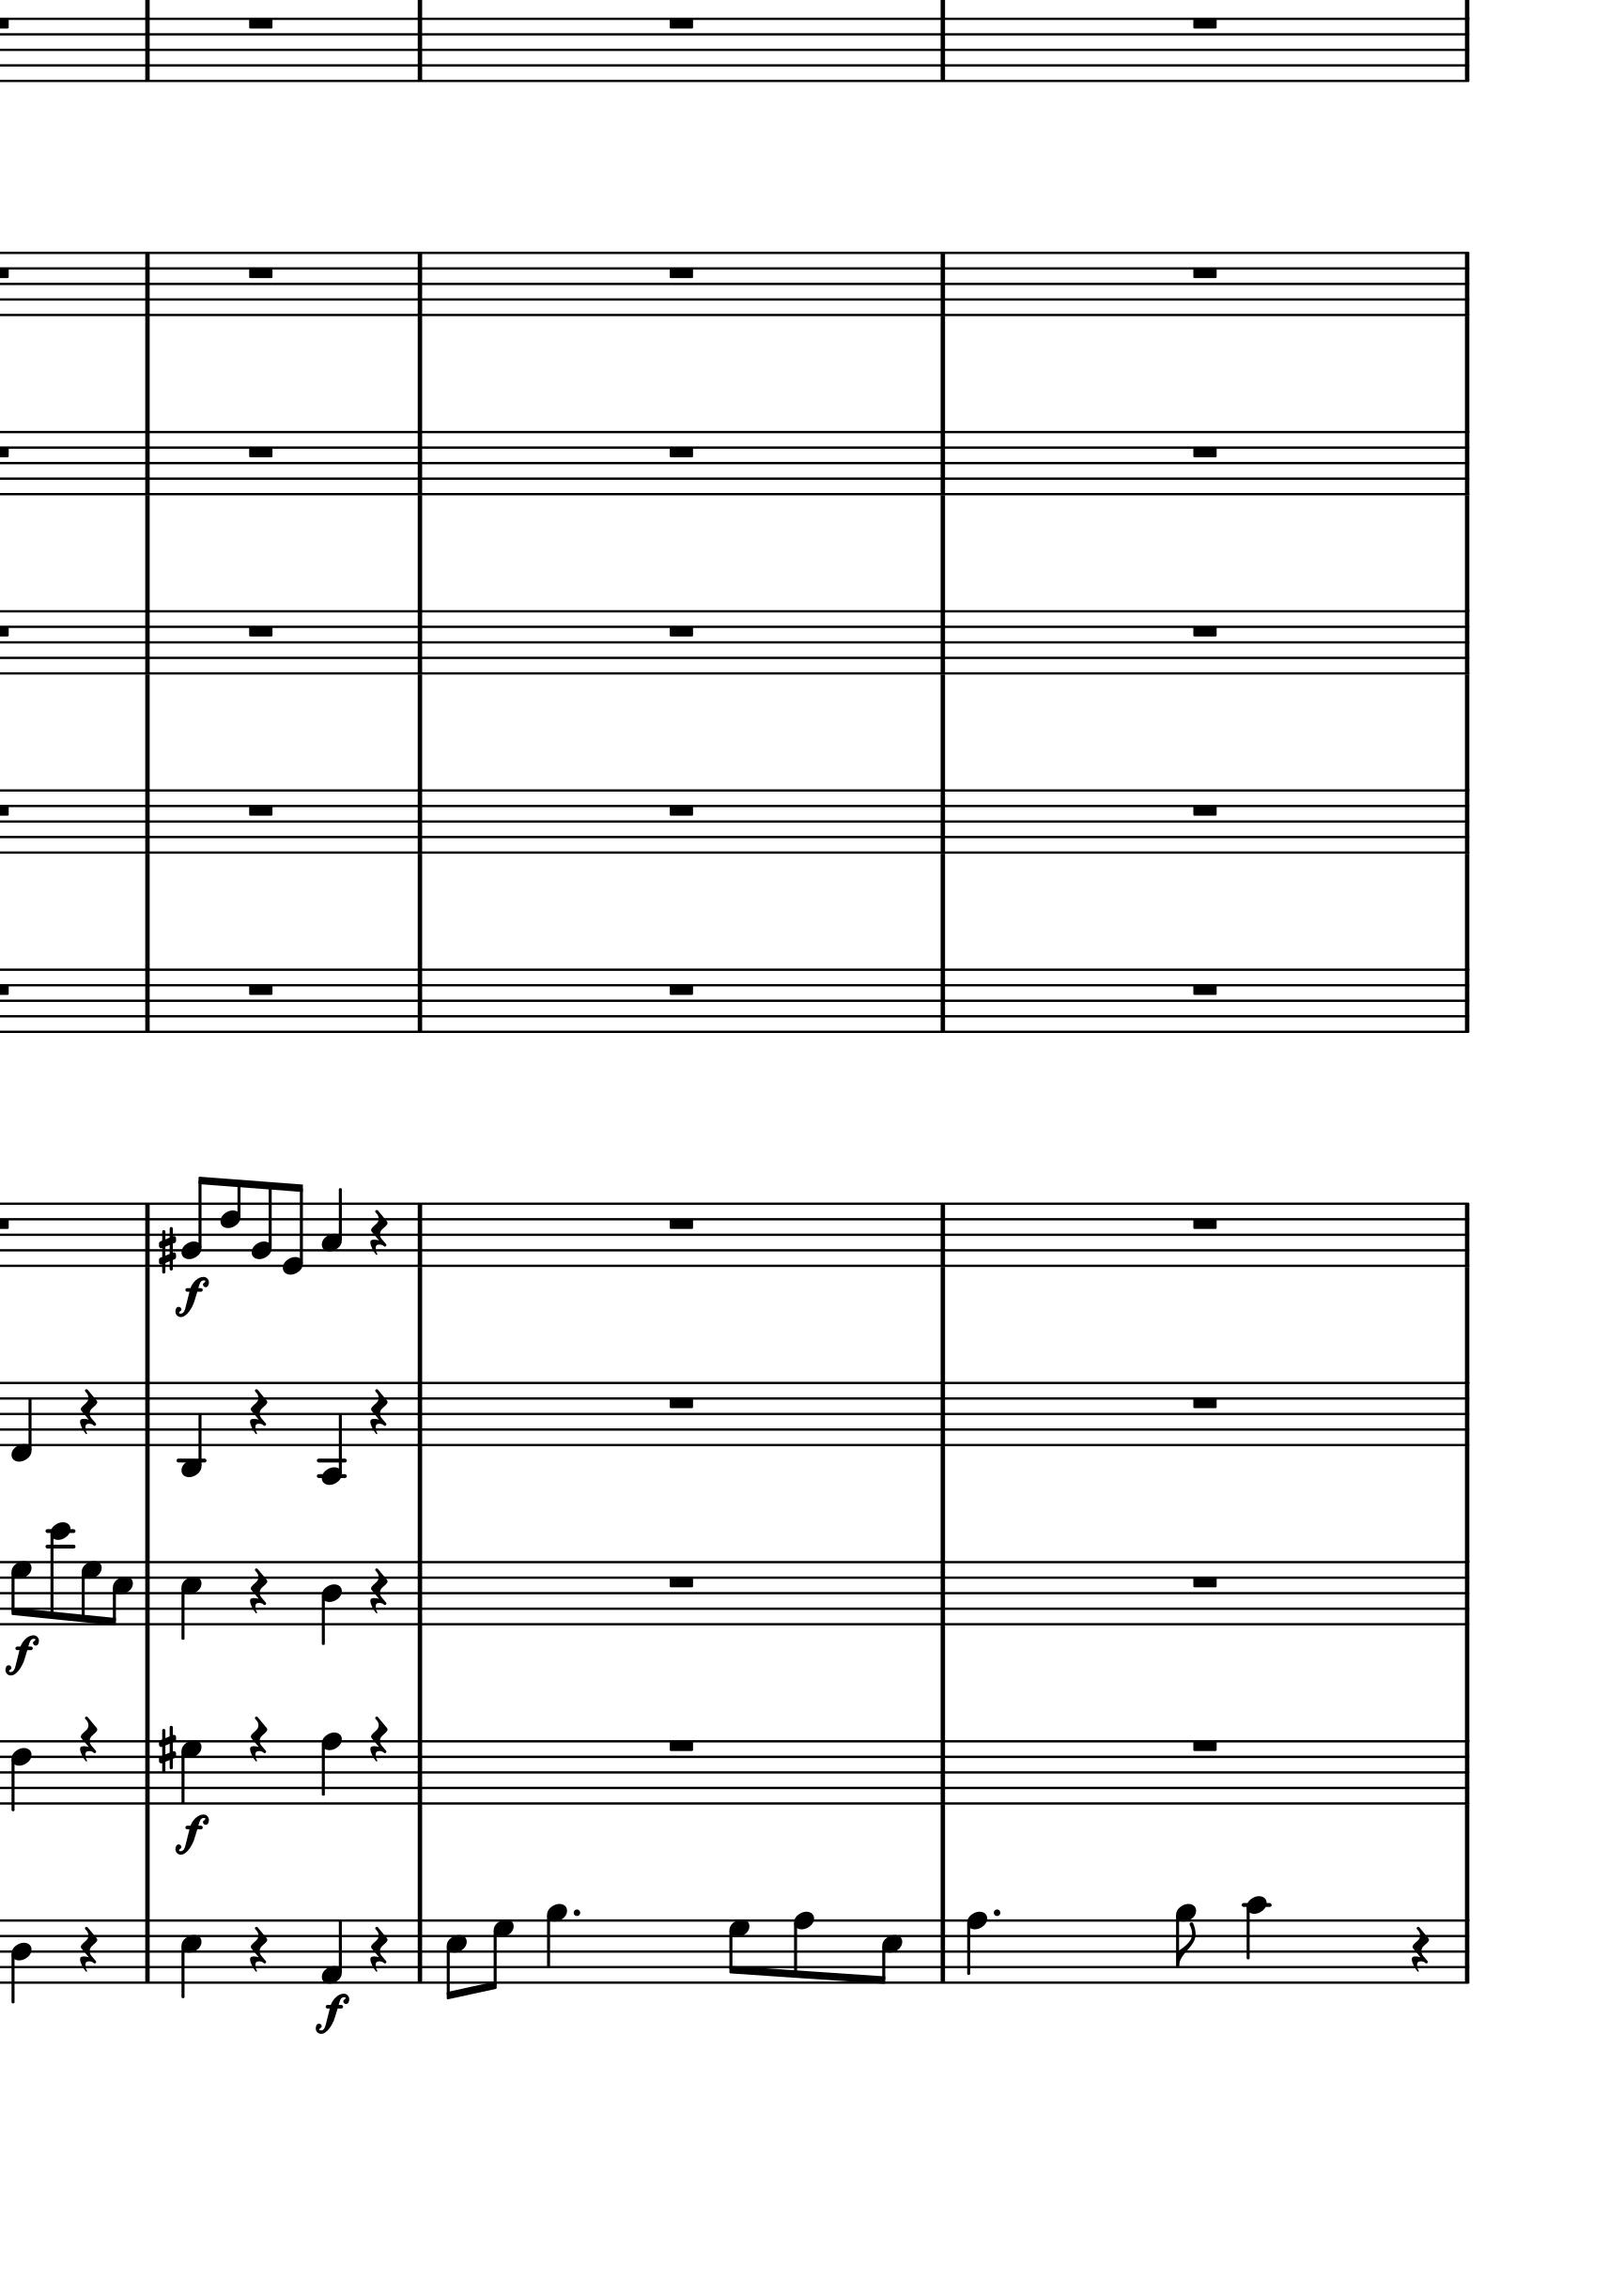4_-1: (7, 1379, 33, 1462)
4_-3: (176, 1383, 204, 1479)
4_-4: (316, 1379, 344, 1486)
4_1: (318, 1918, 343, 1985)
4_10: (1241, 1895, 1271, 1985)
4_3: (318, 1186, 343, 1268)
4_4: (7, 1918, 32, 2006), (318, 1558, 341, 1648)
4_5: (176, 1917, 200, 2001), (178, 1558, 202, 1641)
4_6: (5, 1737, 32, 1813)
4_7: (179, 1737, 202, 1806)
4_8: (318, 1730, 343, 1806), (963, 1910, 988, 1985)
4_9: (543, 1901, 568, 1985)
8_0: (278, 1179, 304, 1279)
8_11: (46, 1521, 74, 1627)
8_2: (179, 1175, 209, 1270), (250, 1180, 271, 1268)
8_5: (441, 1917, 468, 2003), (870, 1918, 903, 1985), (105, 1560, 132, 1627)
8_6: (218, 1177, 241, 1268)
8_7: (483, 1918, 513, 1992), (77, 1558, 102, 1627), (7, 1558, 32, 1625), (726, 1918, 749, 1985)
8_8: (789, 1910, 814, 1987)
8_9: (1172, 1903, 1197, 1987)
Rests1: (1186, 1734, 1222, 1757), (243, 12, 278, 33), (663, 12, 698, 33), (1186, 12, 1222, 33), (663, 262, 698, 283), (1186, 262, 1222, 283), (1186, 441, 1222, 462), (243, 620, 278, 641), (1186, 620, 1222, 641), (243, 799, 278, 820), (1186, 799, 1222, 820), (1186, 978, 1222, 1000), (1186, 1391, 1222, 1412), (1186, 1570, 1222, 1592), (663, 1734, 698, 1755), (664, 441, 698, 462), (664, 620, 698, 641), (664, 799, 698, 820), (243, 264, 278, 283), (243, 441, 278, 460), (243, 980, 278, 1000), (663, 1214, 698, 1233), (1186, 1214, 1222, 1233), (663, 1572, 698, 1592), (664, 980, 698, 1000), (664, 1393, 698, 1411)
Rests4: (246, 1567, 269, 1618), (76, 1388, 98, 1437), (246, 1388, 269, 1437), (366, 1388, 388, 1437), (366, 1567, 388, 1616), (76, 1925, 98, 1975), (246, 1925, 269, 1975), (366, 1925, 388, 1975), (366, 1716, 388, 1764), (367, 1207, 388, 1258), (77, 1715, 98, 1764), (248, 1715, 269, 1764), (1408, 1925, 1429, 1975)
Sharp: (155, 1723, 178, 1776), (155, 1224, 176, 1274)
Single_barline: (930, 430, 954, 497), (930, 610, 954, 675), (408, 791, 432, 854), (930, 791, 954, 854), (1454, 251, 1476, 316), (408, 610, 431, 675), (1454, 610, 1476, 675), (1454, 970, 1476, 1035), (932, 1383, 954, 1448), (932, 1562, 954, 1627), (408, 253, 431, 316), (408, 432, 431, 495), (1454, 791, 1476, 854), (408, 970, 431, 1033), (932, 970, 954, 1033), (408, 1203, 431, 1267), (408, 1383, 431, 1446), (135, 1562, 158, 1625), (408, 1562, 431, 1625), (1454, 1562, 1476, 1625), (408, 1741, 431, 1804), (930, 1741, 953, 1804), (135, 18, 156, 83), (410, 18, 431, 83), (932, 18, 953, 83), (135, 610, 156, 675), (1455, 1203, 1476, 1268), (932, 1203, 953, 1268), (135, 253, 156, 316), (932, 253, 953, 316), (135, 432, 156, 495), (1455, 432, 1476, 495), (135, 970, 156, 1033), (135, 1203, 156, 1267), (135, 1383, 156, 1446), (1455, 1383, 1476, 1446), (1455, 1741, 1476, 1804), (932, 1920, 953, 1983), (1455, 1920, 1476, 1983), (135, 791, 156, 852), (1455, 18, 1475, 83), (137, 1741, 156, 1804), (410, 1920, 429, 1983), (137, 1920, 156, 1983)
dot: (988, 1906, 1002, 1920), (569, 1906, 582, 1920)
f: (311, 1992, 352, 2034), (172, 1813, 209, 1857), (174, 1275, 209, 1318), (5, 1634, 39, 1676)
